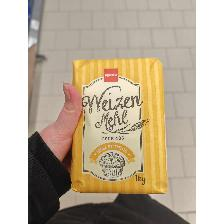Mehl: (68, 57, 170, 195)
